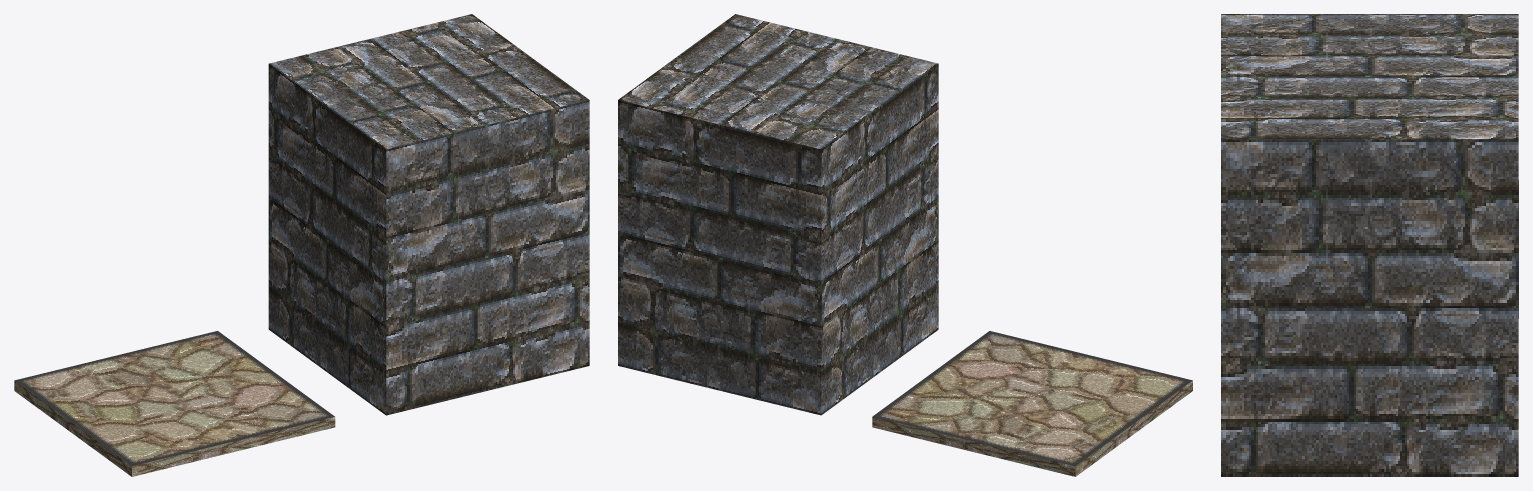
File: tileset.glb
The picture shows the model from 3 angles, left to right: view 1: azimuth 30°, elevation 25°; view 2: azimuth 150°, elevation 25°; view 3: azimuth 270°, elevation 25°; orthographic projection. The views are drawn at different scales.
Visible parts, largest first — view 1: Cube, Floor; view 2: Cube, Floor; view 3: Cube.
Boxes of the visible parts, left/top/right/bottom form: Cube: left=268, top=14, right=589, bottom=415; Floor: left=14, top=331, right=335, bottom=476; Cube: left=618, top=14, right=938, bottom=415; Floor: left=872, top=331, right=1192, bottom=476; Cube: left=1221, top=14, right=1518, bottom=476.
Bounding box in the file's own units: 9 × 5 × 4.
Materials: 2 (2 with a texture image).
